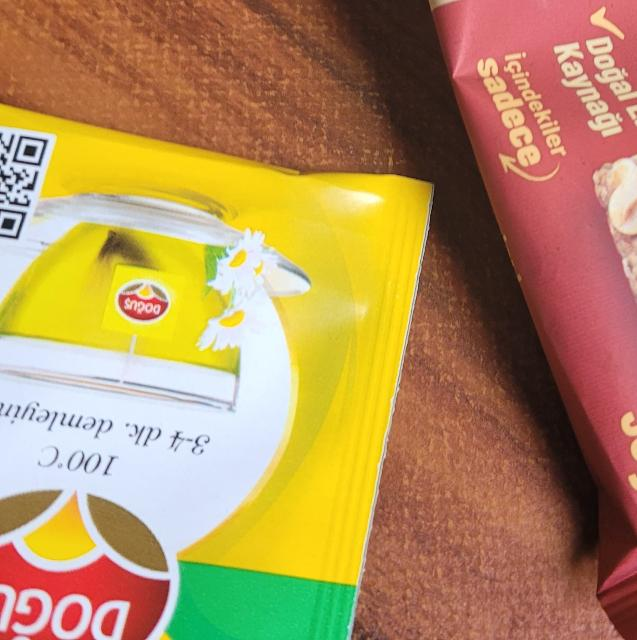Plastik: (0, 86, 431, 640)
